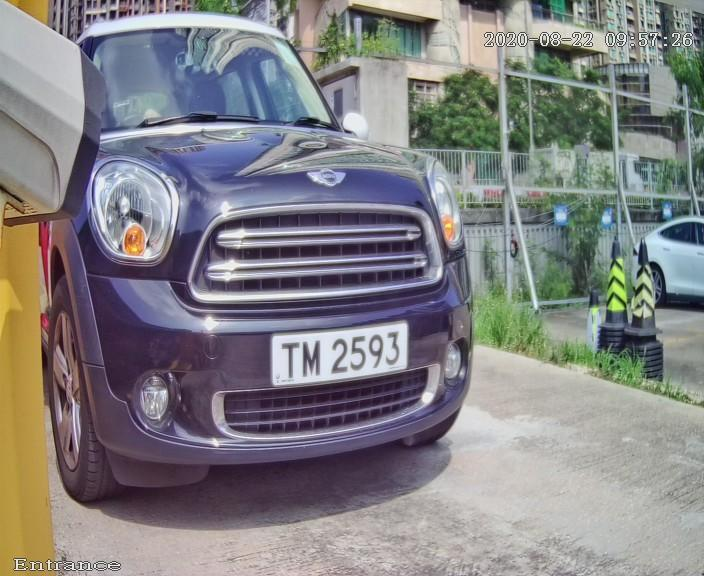Car: (19, 8, 513, 525)
License Plate: (223, 303, 449, 401)
